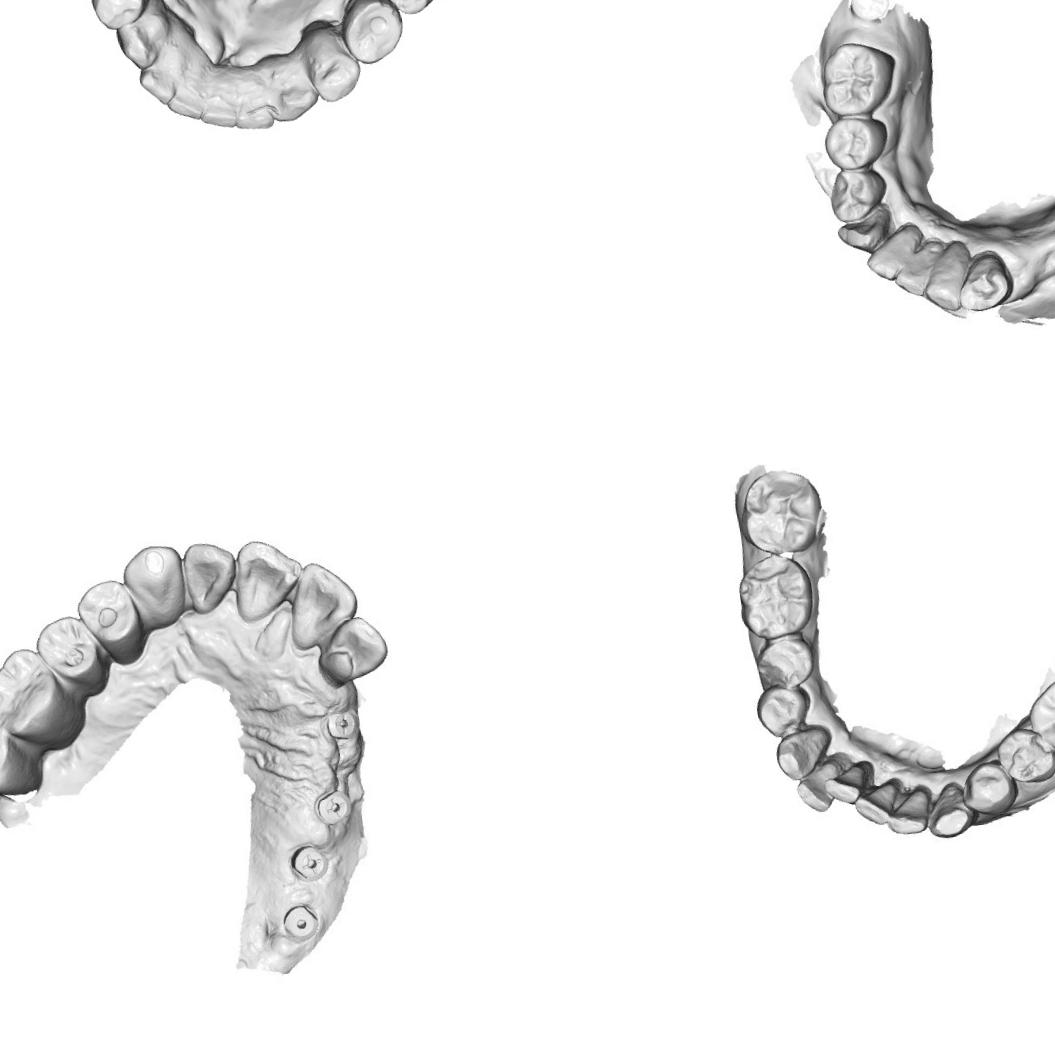canine: (118, 540, 190, 635), (955, 253, 1016, 319), (772, 724, 837, 783), (922, 778, 982, 840), (268, 60, 323, 124), (114, 10, 170, 70), (833, 218, 892, 254)
implant: (278, 897, 324, 948)
implant_plus: (308, 780, 358, 833), (288, 836, 330, 884), (321, 702, 362, 747)
incisor: (308, 611, 398, 697), (282, 559, 359, 654), (222, 540, 301, 623), (178, 537, 238, 616), (914, 242, 976, 318), (196, 64, 249, 133), (888, 238, 946, 301), (862, 228, 925, 286), (230, 62, 280, 135), (792, 759, 846, 816), (164, 66, 214, 126), (882, 788, 934, 838), (136, 55, 182, 109), (852, 781, 902, 829), (821, 764, 870, 808)
molar: (0, 635, 90, 762), (732, 464, 829, 560), (810, 35, 902, 126), (732, 550, 819, 645), (0, 692, 47, 814), (1023, 673, 1055, 753), (370, 0, 461, 19)
premolar: (30, 605, 119, 705), (70, 574, 150, 672), (818, 110, 896, 175), (340, 0, 408, 67), (308, 28, 366, 103), (826, 164, 893, 227), (993, 721, 1055, 788), (751, 633, 818, 693), (957, 758, 1021, 820), (752, 679, 815, 740), (88, 0, 150, 30)
